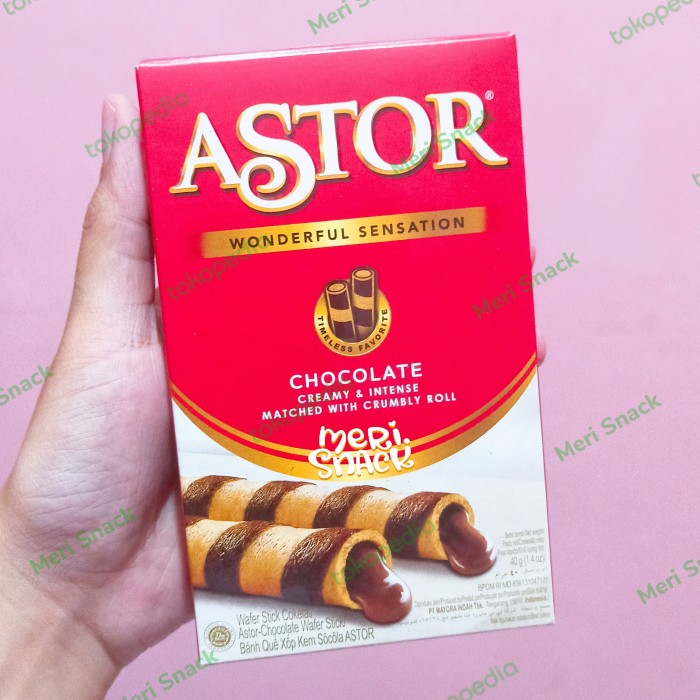Astor Chocolate (40g): (116, 70, 519, 665)
